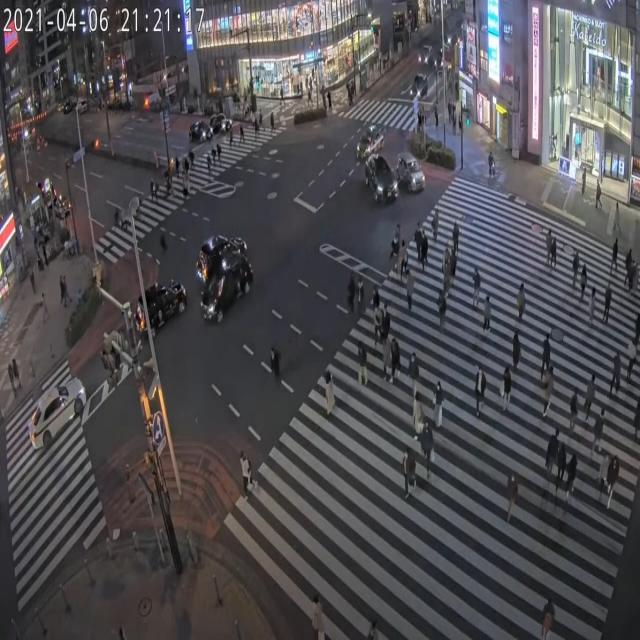bicycle: (484, 148, 500, 192)
humans: (534, 578, 561, 640), (235, 446, 262, 506), (305, 575, 329, 640), (352, 333, 374, 399), (507, 463, 527, 532), (312, 363, 336, 413), (363, 586, 384, 640), (420, 414, 436, 483), (400, 441, 416, 504), (264, 336, 280, 397), (499, 361, 515, 418), (406, 345, 421, 404), (434, 372, 448, 434), (543, 426, 559, 479), (541, 371, 557, 422), (434, 284, 452, 329), (608, 453, 622, 508), (510, 326, 524, 381), (377, 333, 390, 392), (540, 325, 552, 381), (566, 451, 578, 506), (411, 382, 422, 442), (515, 270, 526, 330), (474, 361, 485, 417), (586, 364, 596, 424), (576, 164, 591, 204), (621, 243, 635, 284), (391, 340, 402, 391), (470, 265, 481, 316), (556, 438, 566, 493), (570, 382, 579, 442), (438, 244, 450, 288), (600, 450, 611, 497), (356, 272, 368, 315), (382, 295, 391, 352), (345, 275, 355, 325), (595, 404, 605, 453), (483, 290, 493, 339), (628, 338, 639, 382), (404, 261, 414, 309), (602, 279, 613, 321), (612, 346, 621, 396), (391, 223, 400, 272), (630, 259, 640, 303), (614, 198, 623, 246), (452, 219, 462, 259), (589, 280, 597, 328), (399, 244, 406, 297), (373, 306, 382, 347), (570, 241, 576, 302), (412, 220, 420, 265), (429, 210, 439, 246), (594, 176, 603, 214), (372, 279, 379, 327), (419, 231, 428, 265), (546, 225, 552, 271), (581, 257, 587, 303), (614, 238, 620, 278), (554, 243, 560, 276)
